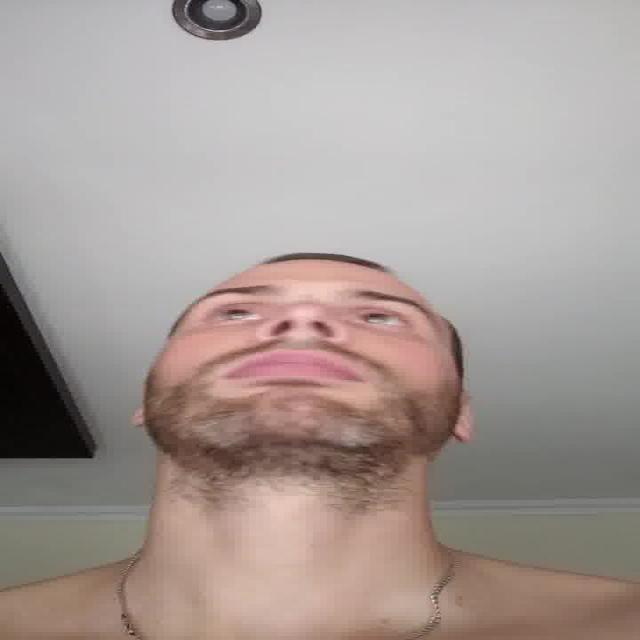earlobe: (450, 391, 479, 444)
